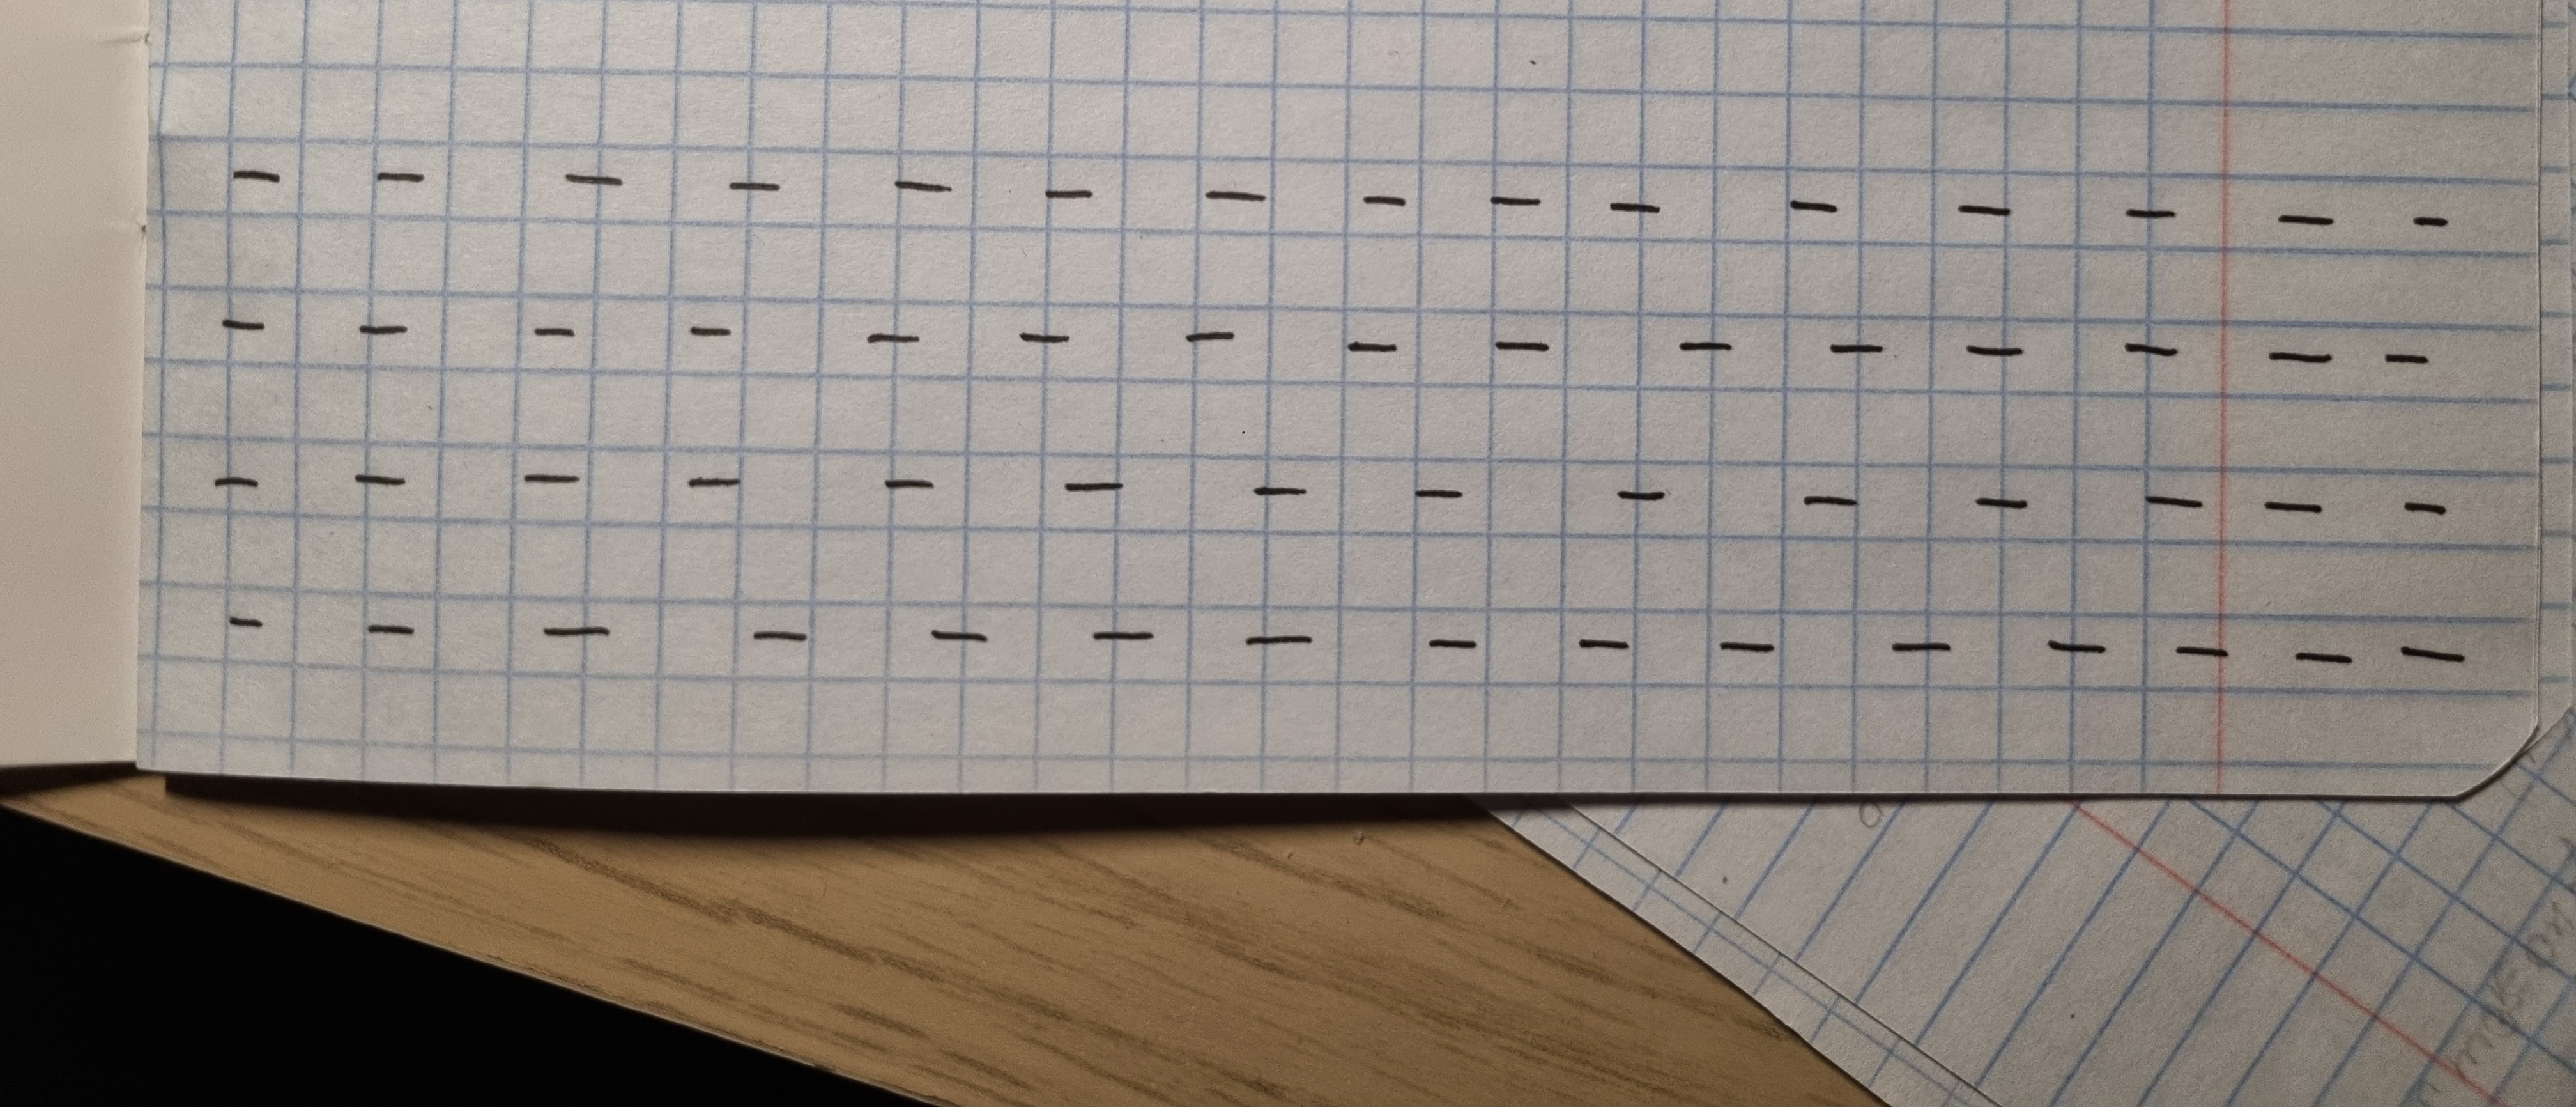-: (2385, 631, 2481, 672), (355, 153, 430, 202), (212, 149, 284, 197), (885, 163, 959, 209), (2113, 327, 2190, 370), (1707, 622, 1781, 665), (2039, 627, 2116, 667), (513, 455, 586, 496), (1794, 481, 1866, 521), (1567, 624, 1638, 664), (554, 158, 629, 194), (2259, 491, 2334, 527), (204, 458, 271, 498), (1235, 619, 1316, 652), (347, 455, 411, 496), (358, 606, 421, 647), (1487, 325, 1556, 361), (1598, 187, 1667, 223), (1884, 631, 1957, 665), (1950, 189, 2016, 227), (1354, 179, 1418, 217), (678, 463, 747, 498), (718, 164, 787, 199), (1669, 327, 1738, 361), (858, 319, 923, 355), (1958, 333, 2031, 366), (922, 619, 997, 650), (2287, 644, 2361, 675), (534, 614, 611, 644), (744, 614, 813, 647), (1244, 475, 1313, 508), (1781, 186, 1843, 222), (1825, 327, 1884, 365), (1175, 315, 1242, 348), (1605, 475, 1672, 508), (1480, 182, 1549, 214), (1084, 619, 1157, 649), (1410, 475, 1465, 512), (1032, 176, 1099, 207), (1010, 322, 1071, 356), (1198, 181, 1268, 210), (214, 309, 271, 345), (877, 468, 940, 501), (1055, 468, 1124, 498), (352, 312, 412, 345), (522, 312, 583, 345), (2261, 342, 2334, 368), (2395, 489, 2454, 522), (1971, 488, 2032, 519), (2380, 338, 2438, 371), (2139, 489, 2208, 516), (1421, 624, 1479, 655), (2408, 199, 2458, 235), (682, 314, 738, 345), (2274, 209, 2339, 235), (2123, 195, 2177, 227), (1337, 333, 1401, 360), (2169, 641, 2228, 667), (222, 604, 261, 637)
